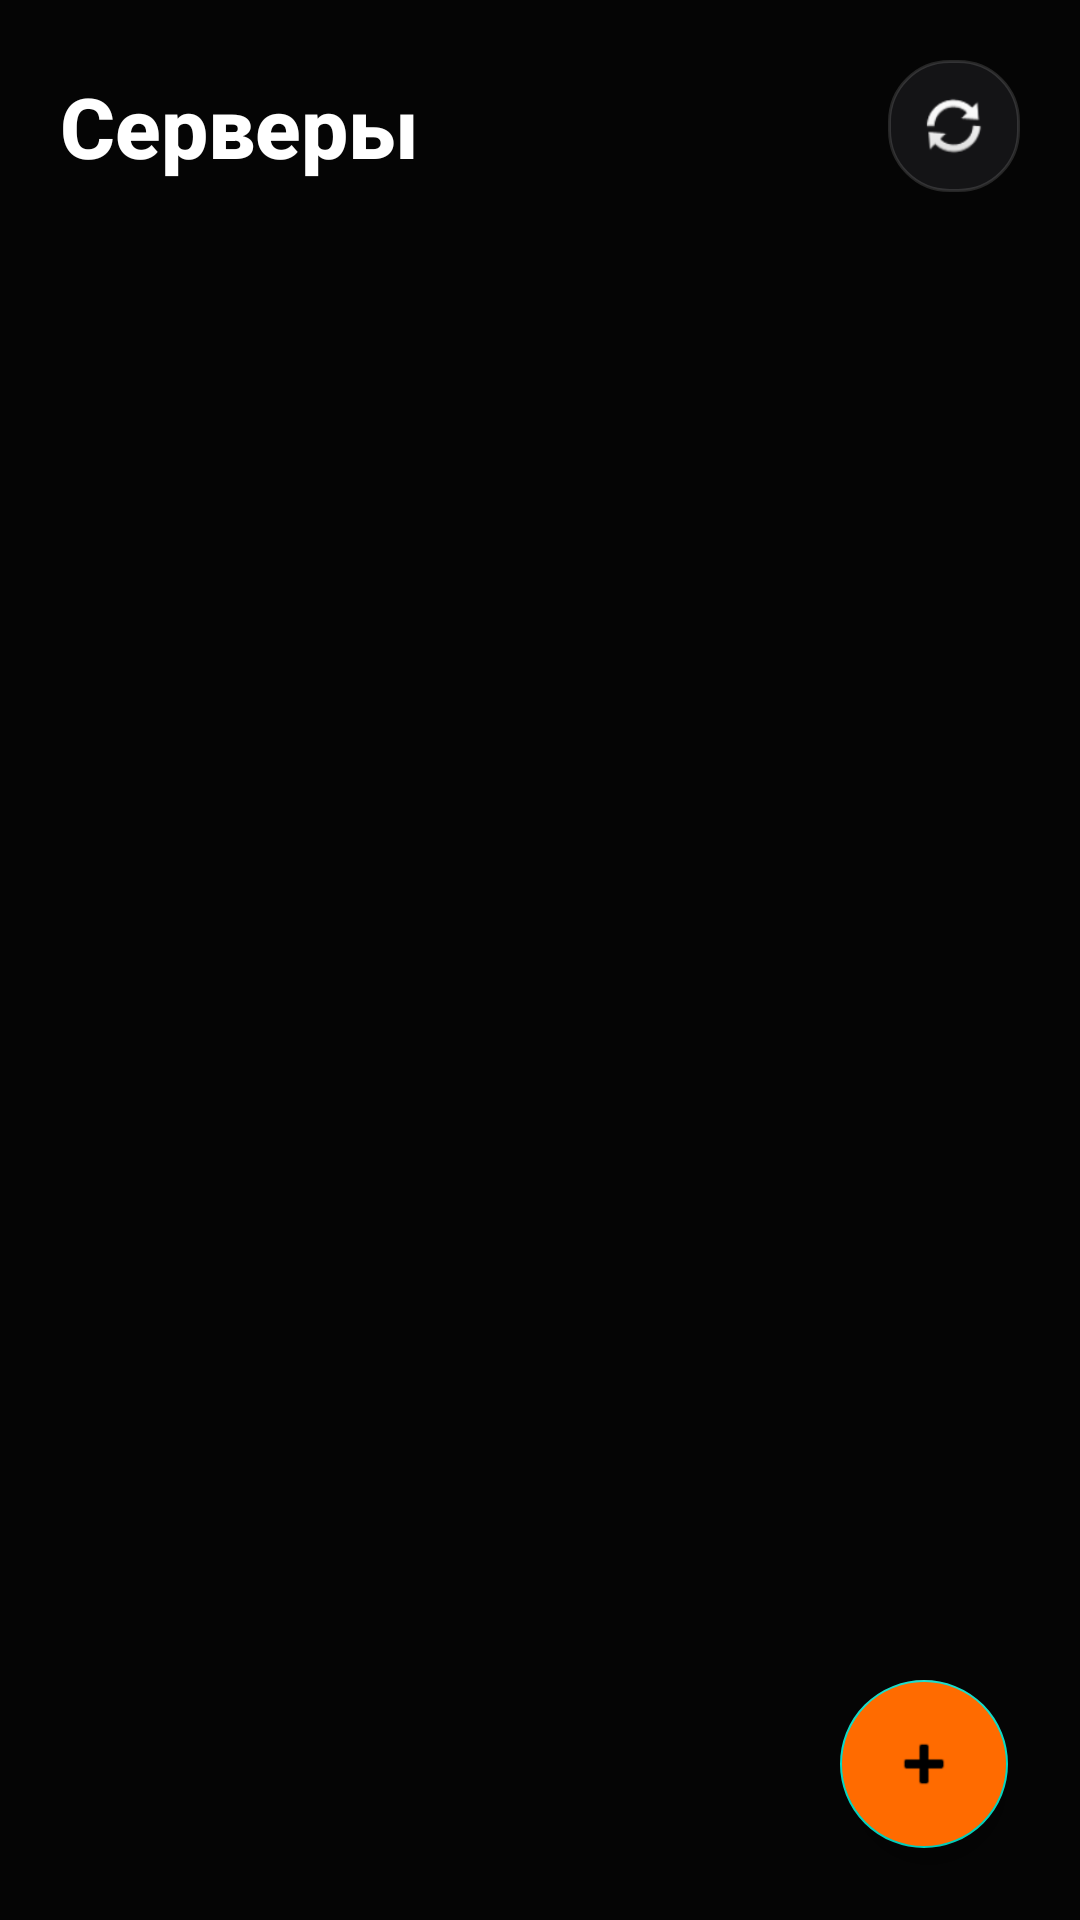

Icons on this 1080px×1920px Android screen, each with its box as (x1, y1, x2, y2):
add: (840, 1680, 1008, 1848)
Ping All: (888, 60, 1020, 192)
